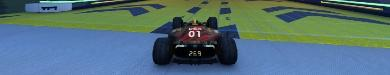Car: (151, 15, 237, 65)
Tree: (0, 0, 8, 15)
grass: (0, 0, 389, 48)
obstacles-Borders: (24, 0, 149, 12)
